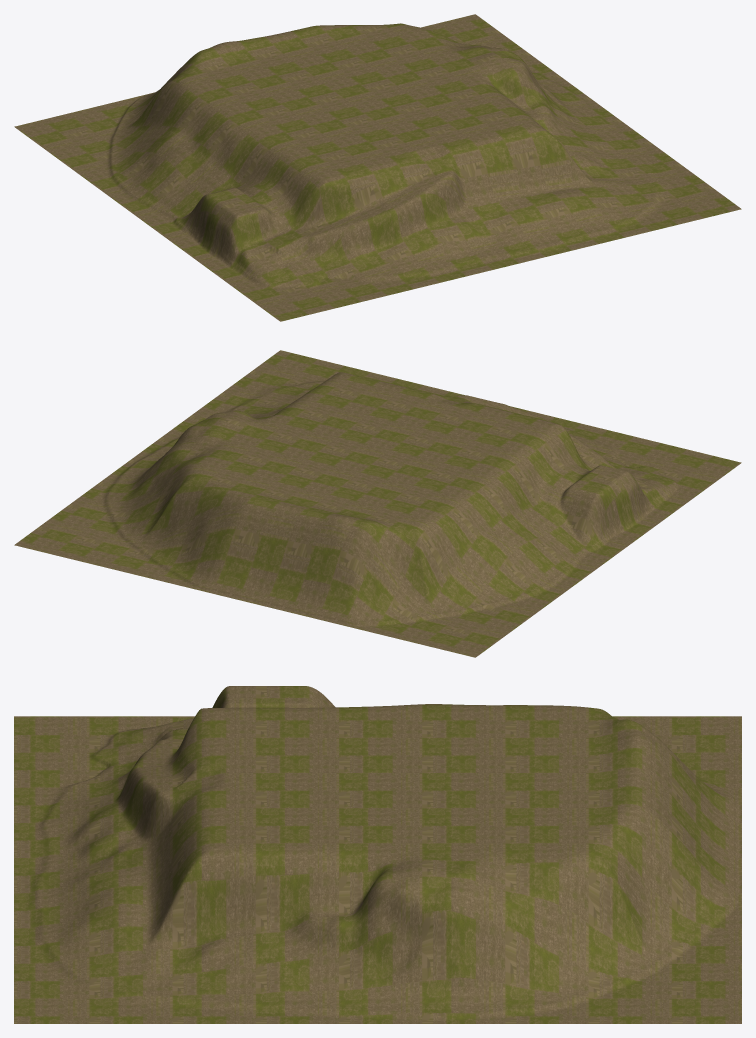
3 renders of one model, top to bottom at view 1: azimuth 30°, elevation 25°; view 2: azimuth 150°, elevation 25°; view 3: azimuth 270°, elevation 25°, orthographic. The views are drawn at different scales.
Parts seen in each view (by area): view 1: Source mountain continuous surface; view 2: Source mountain continuous surface; view 3: Source mountain continuous surface.
Part boxes in pixels (<box>): Source mountain continuous surface: <box>14,14,741,321</box>; Source mountain continuous surface: <box>14,350,741,657</box>; Source mountain continuous surface: <box>14,686,741,1023</box>.
Bounding box in the file's own units: 280 × 40.26 × 280.
Materials: 1 (1 with a texture image).
